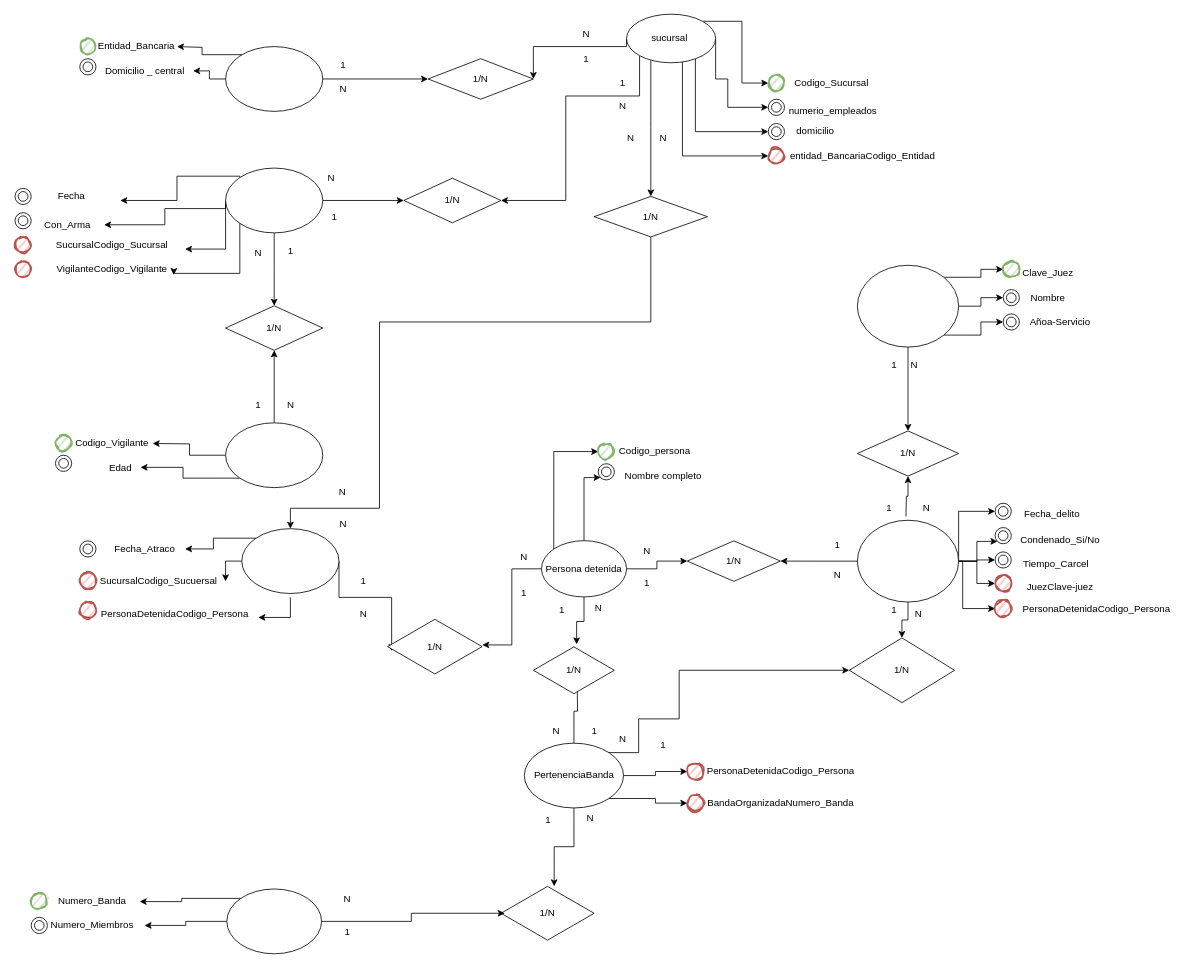
This 1195x968 diagram has some shape labels left out. Each missing label, with the box of its shape:
Atraco: (241, 528, 339, 593)
BandaOrganizada: (226, 888, 322, 954)
Caso: (857, 519, 959, 602)
Contratación: (225, 167, 323, 233)
Entidad Bancaria: (225, 46, 323, 111)
juez: (857, 264, 959, 347)
Vigilagiante: (225, 422, 323, 488)
